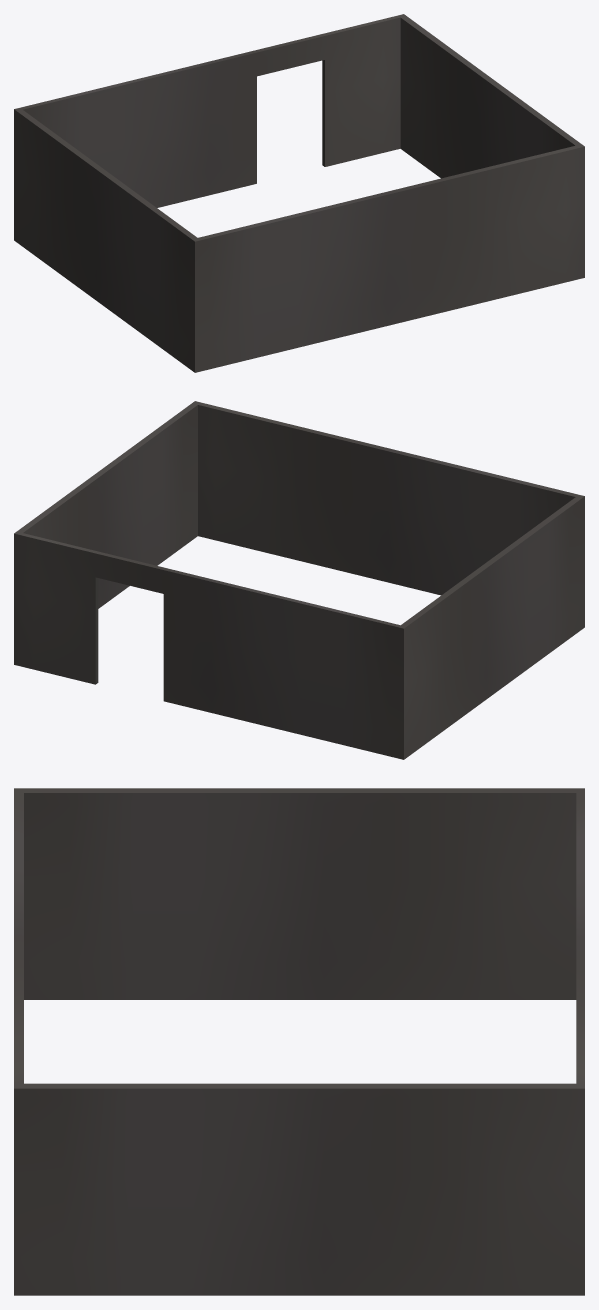
The model's file is wall.gltf.
3 views of the same model, one above another, from view 1: azimuth 30°, elevation 25°; view 2: azimuth 150°, elevation 25°; view 3: azimuth 270°, elevation 25° (orthographic). The views are drawn at different scales.
Parts seen in each view (by area): view 1: Floor.001; view 2: Floor.001; view 3: Floor.001.
Part boxes in pixels (x1,y1,x2,y2): Floor.001: (14, 14, 584, 372); Floor.001: (14, 401, 584, 759); Floor.001: (14, 788, 584, 1295).
Size of the model in its own units: 18.51 by 5.95 by 14.88.
1 material, 1 textured.
